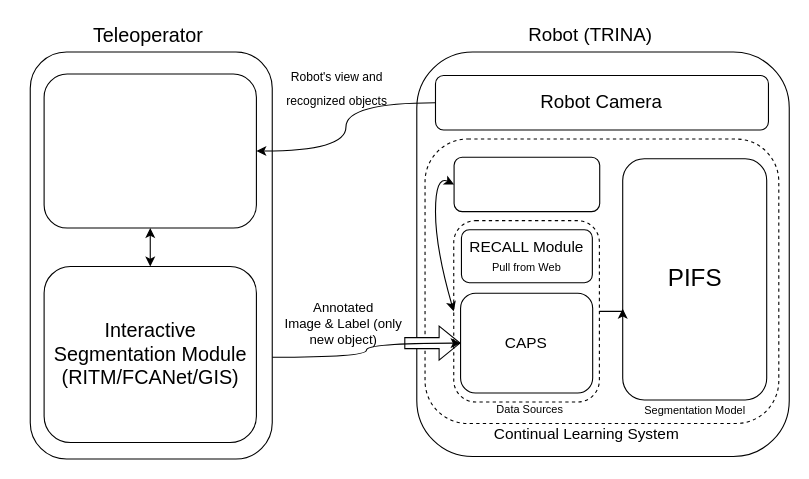
Some shapes in this 809 by 479 pixel diagram are drawn without their labels. Here are the shapes that lost their labels. From the top down, the centre of each, then its label:
At point 149,150: "User Input Module (User Interface) click to annotate input label".
At point 526,184: "Memory Buffer (Exemplar Set)".
